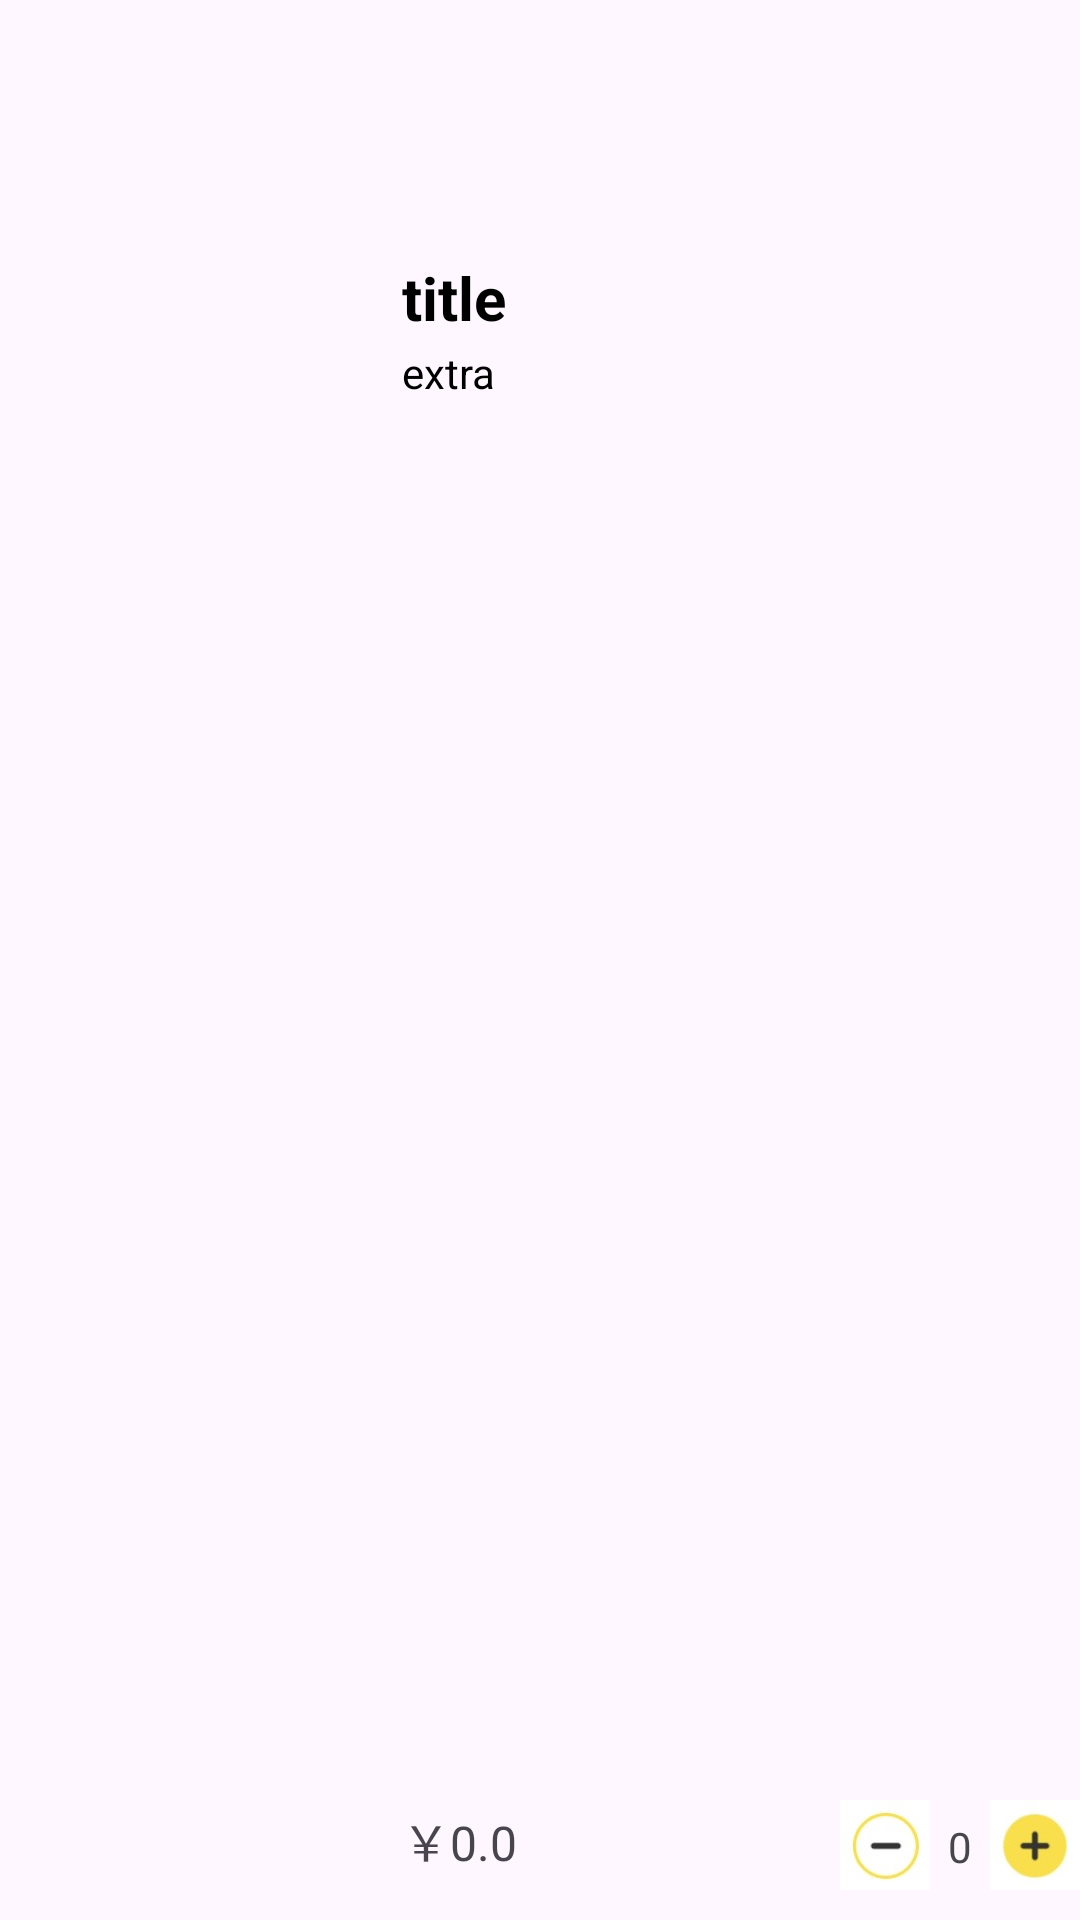

Icons on this 1080px x 1920px Android screen, each with its box as box(x1, y1, x2, y2):
add: box(1002, 1813, 1067, 1879)
sub: box(852, 1812, 920, 1880)
